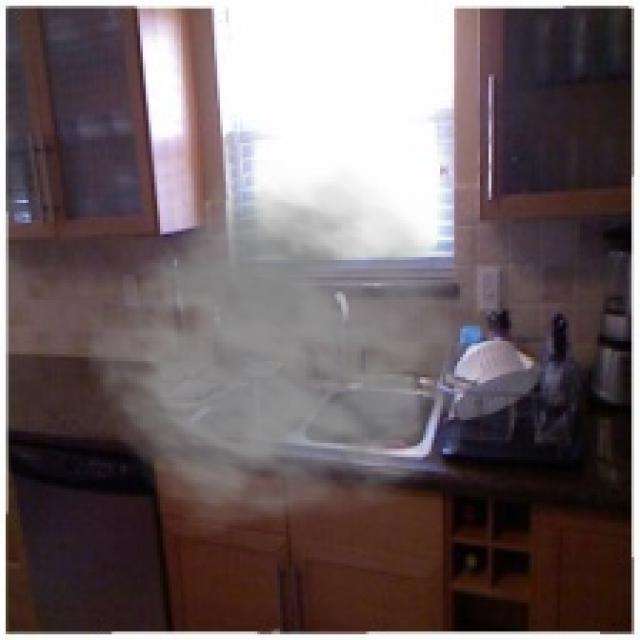Smoke: (86, 160, 508, 534)
